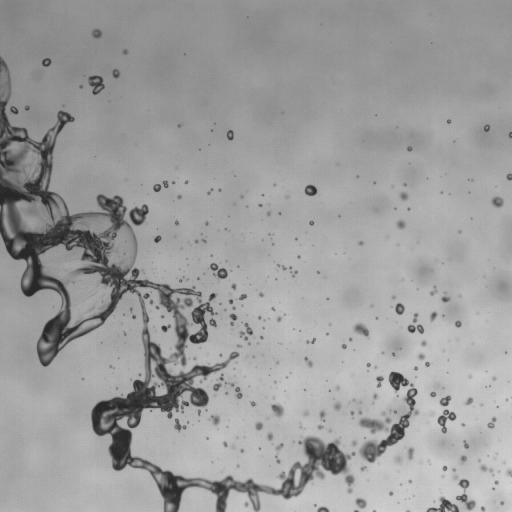droplet: (437, 409, 456, 433), (88, 75, 104, 94), (209, 263, 227, 279), (353, 323, 369, 337), (240, 323, 252, 339), (271, 403, 283, 417), (174, 418, 186, 431), (439, 395, 451, 407), (491, 196, 503, 207), (304, 185, 317, 195), (355, 498, 366, 508), (395, 302, 404, 314), (487, 417, 496, 428), (210, 415, 219, 425), (229, 313, 236, 325), (92, 29, 101, 38), (396, 220, 405, 229), (304, 357, 312, 367), (376, 376, 383, 387), (235, 387, 242, 398), (42, 58, 51, 66), (407, 447, 413, 459), (430, 311, 437, 321), (319, 410, 325, 421), (10, 106, 18, 114), (400, 192, 408, 200), (465, 397, 473, 405), (275, 443, 283, 451), (112, 69, 119, 78), (441, 295, 450, 302), (227, 130, 233, 140), (255, 422, 262, 430), (154, 235, 161, 242), (418, 353, 425, 360), (334, 403, 341, 410), (238, 294, 246, 300), (460, 455, 466, 463), (506, 468, 511, 477), (267, 432, 272, 440), (455, 321, 461, 327), (395, 456, 401, 462), (484, 124, 489, 131), (506, 173, 511, 180), (463, 441, 468, 448), (291, 271, 297, 276), (421, 340, 426, 346), (317, 424, 323, 429), (360, 466, 366, 471), (373, 393, 377, 400), (122, 49, 127, 54), (231, 284, 236, 289), (341, 344, 346, 349), (250, 401, 255, 406), (351, 440, 356, 445), (24, 106, 29, 110), (407, 146, 411, 151), (309, 220, 313, 225), (277, 316, 281, 321), (366, 363, 370, 368), (425, 362, 430, 366), (430, 392, 435, 396), (303, 411, 308, 415), (350, 411, 354, 416), (481, 506, 485, 511), (208, 189, 212, 193), (177, 195, 181, 199), (359, 241, 363, 245), (229, 299, 233, 303), (223, 442, 227, 446), (494, 480, 498, 484), (358, 409, 361, 414), (179, 278, 183, 281), (259, 293, 263, 296), (414, 366, 417, 370), (336, 386, 339, 390), (443, 466, 446, 470), (389, 492, 393, 495), (447, 120, 450, 123), (175, 221, 178, 224), (202, 239, 205, 242), (271, 307, 274, 310), (132, 315, 135, 318), (237, 344, 240, 347), (267, 212, 270, 214), (205, 222, 208, 224), (195, 239, 197, 242), (392, 296, 395, 298), (258, 316, 261, 318), (326, 332, 328, 335), (349, 338, 352, 340), (392, 353, 395, 355), (431, 412, 433, 415), (462, 423, 464, 426), (240, 449, 243, 451), (409, 480, 411, 483), (500, 502, 503, 504), (185, 181, 187, 183), (259, 204, 261, 206), (161, 315, 163, 317), (469, 375, 471, 377), (493, 377, 495, 379), (390, 410, 392, 412)
ligament: (0, 57, 355, 511), (358, 371, 419, 462), (453, 475, 475, 511), (426, 496, 459, 511), (153, 180, 168, 191), (213, 375, 223, 391), (407, 324, 423, 333), (480, 464, 493, 473), (430, 286, 437, 295), (317, 506, 329, 511), (307, 338, 315, 343), (275, 455, 280, 463), (413, 313, 417, 322), (279, 265, 286, 270), (226, 382, 234, 386), (88, 306, 94, 311), (509, 132, 511, 138), (354, 510, 358, 511), (406, 510, 409, 511)
